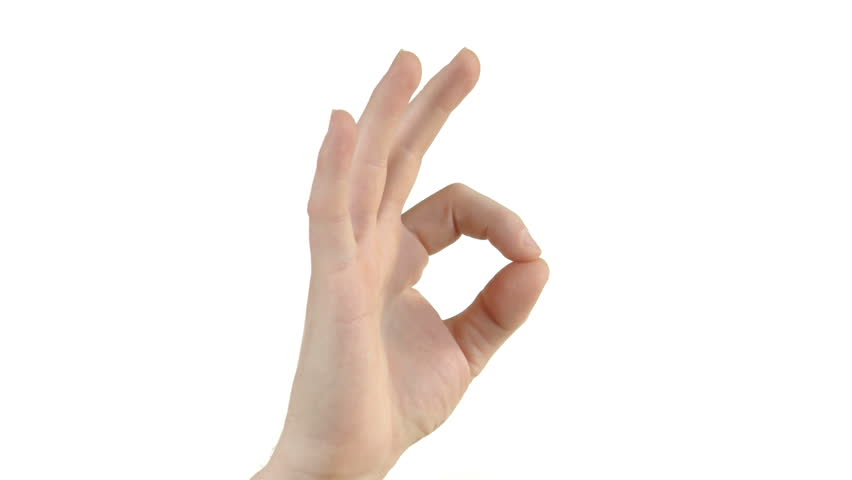oksign: (295, 51, 547, 435)
